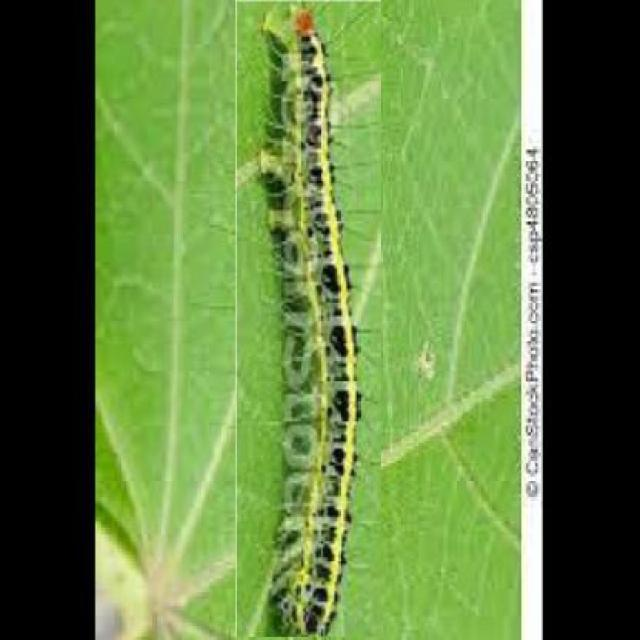Plaga: (236, 1, 382, 639)
